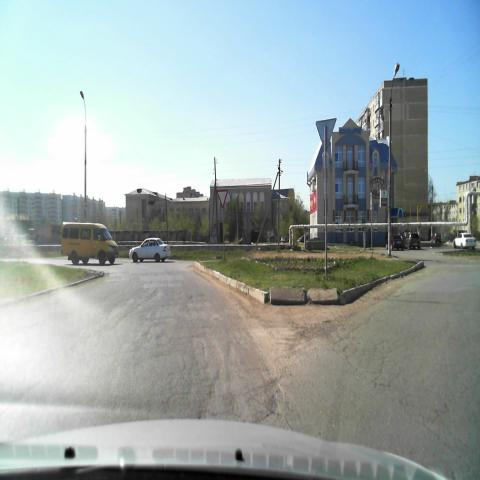2_4: (216, 190, 228, 207)
